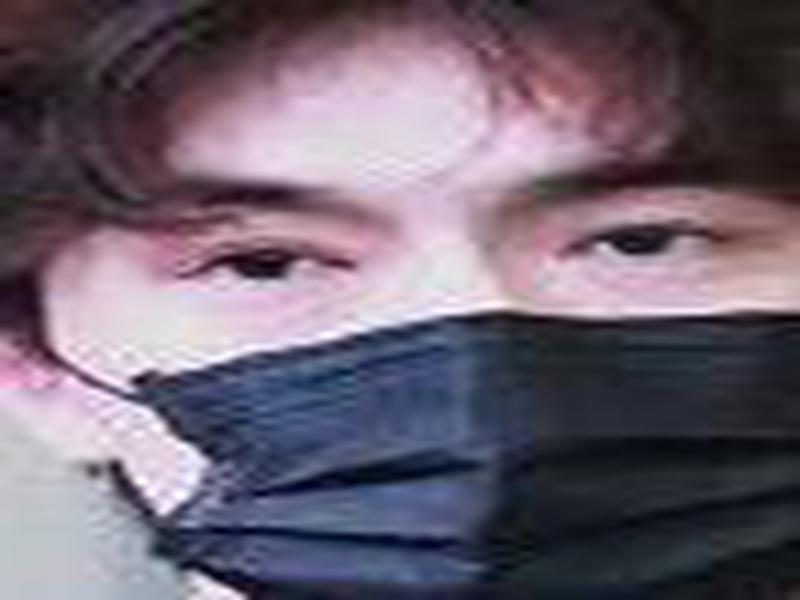with_mask: (1, 9, 795, 600)
